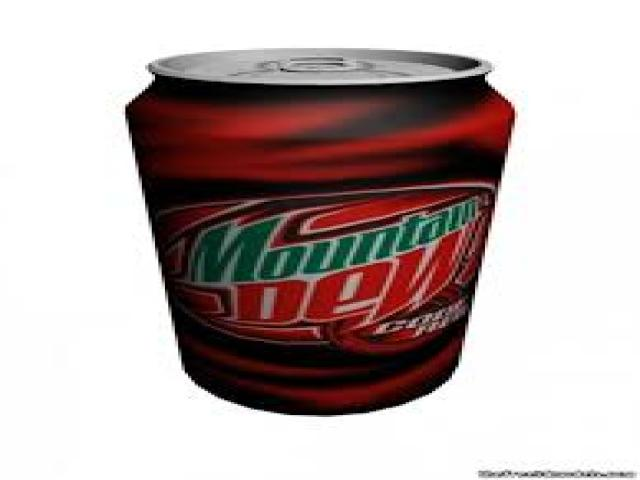Canned_drinks: (122, 48, 515, 413)
